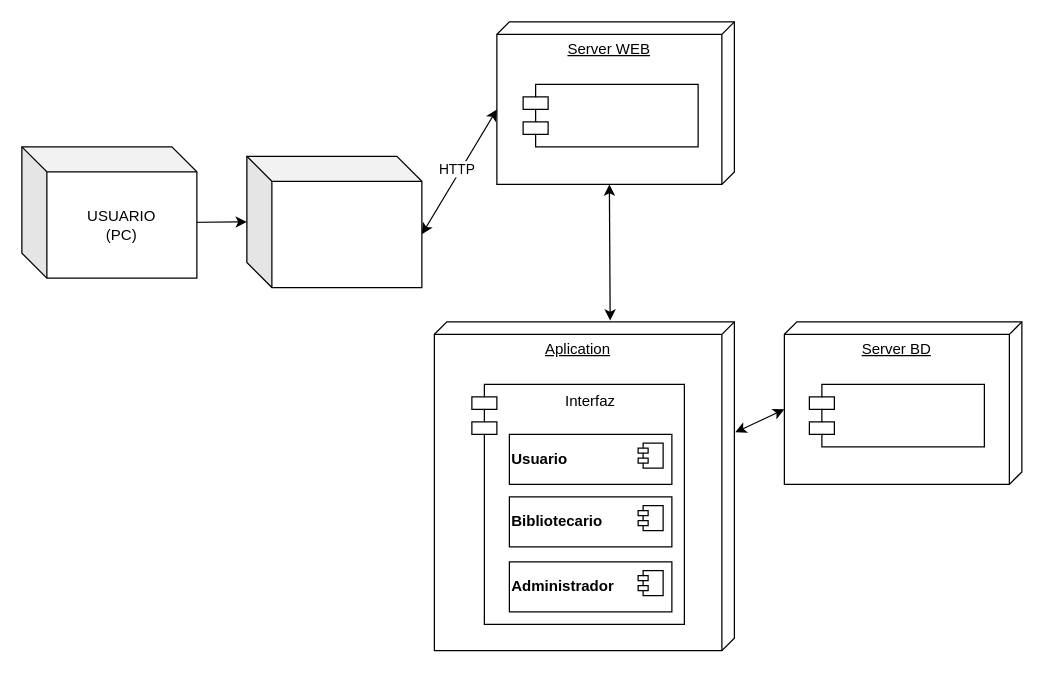
Some shapes in this 1044 by 673 pixel diagram are drawn without their labels. Each missing label, with the centre of its shape:
Apache: the point at 610,115
MySQL Server: the point at 896,415
WEB BROWSER: the point at 334,221
